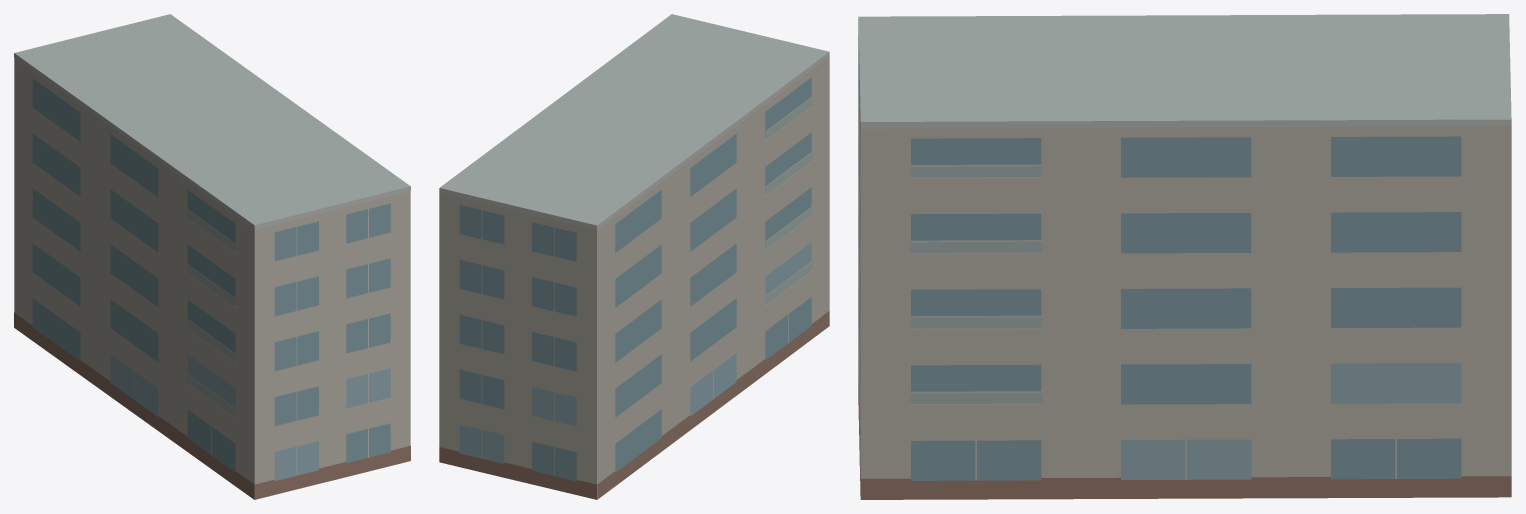
Rendered from survey-upis-32610864.glb.
3 renders of one model, left to right at view 1: azimuth 30°, elevation 25°; view 2: azimuth 150°, elevation 25°; view 3: azimuth 270°, elevation 25°, orthographic. The views are drawn at different scales.
Visible parts, largest first — view 1: survey-upis-32610864.tmp; view 2: survey-upis-32610864.tmp; view 3: survey-upis-32610864.tmp.
Boxes of the visible parts, left/top/right/bottom form: survey-upis-32610864.tmp: left=14, top=14, right=410, bottom=499; survey-upis-32610864.tmp: left=439, top=14, right=829, bottom=499; survey-upis-32610864.tmp: left=858, top=14, right=1511, bottom=499.
Size of the model in its own units: 8.61 by 14 by 21.94.
